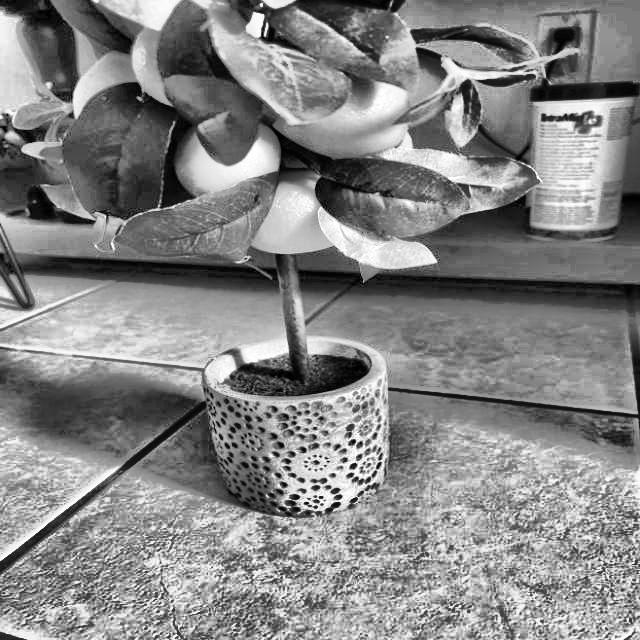plants: (20, 1, 578, 410)
